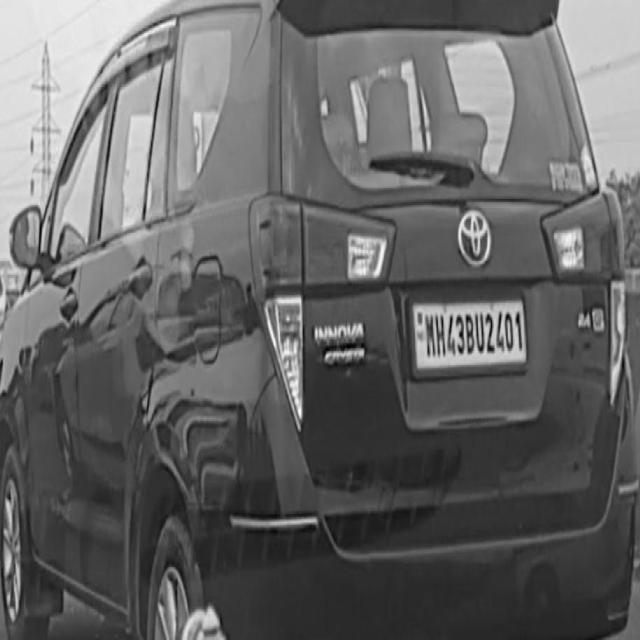car: (3, 1, 629, 640)
license-plate: (412, 289, 526, 365)
